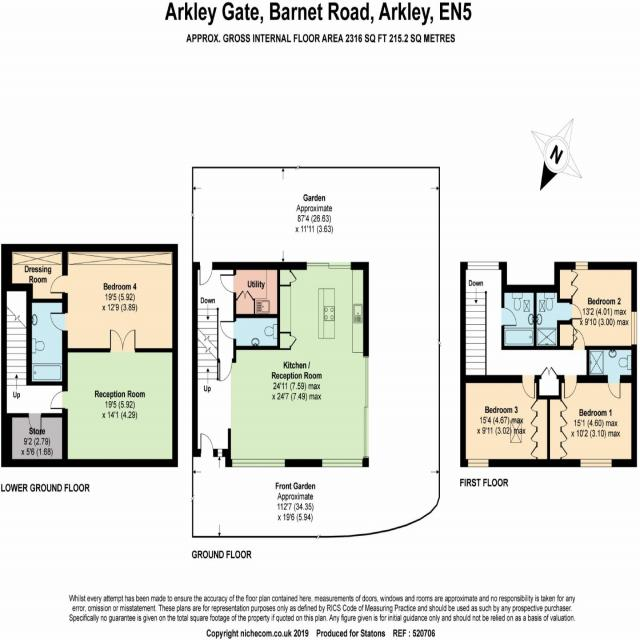DOOR: (50, 274, 68, 295), (521, 375, 536, 399), (50, 390, 68, 410), (50, 312, 68, 332), (200, 432, 214, 457), (607, 375, 621, 399), (501, 306, 517, 327), (219, 358, 233, 382), (220, 273, 236, 294), (199, 262, 213, 286), (220, 320, 236, 340), (564, 375, 577, 399), (572, 328, 585, 350), (569, 304, 582, 320)
DOUBLE DOOR: (107, 327, 138, 353)
ROOM: (228, 262, 369, 468), (50, 329, 178, 468), (49, 244, 178, 353), (547, 375, 637, 468), (460, 375, 550, 467), (554, 261, 637, 350)
WINDOW: (231, 458, 286, 468), (322, 458, 363, 468), (580, 458, 612, 468), (467, 261, 499, 270), (467, 458, 489, 468), (631, 311, 637, 346), (575, 261, 588, 270), (217, 449, 223, 457)
